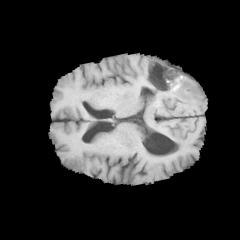glioma: (143, 56, 202, 101)
